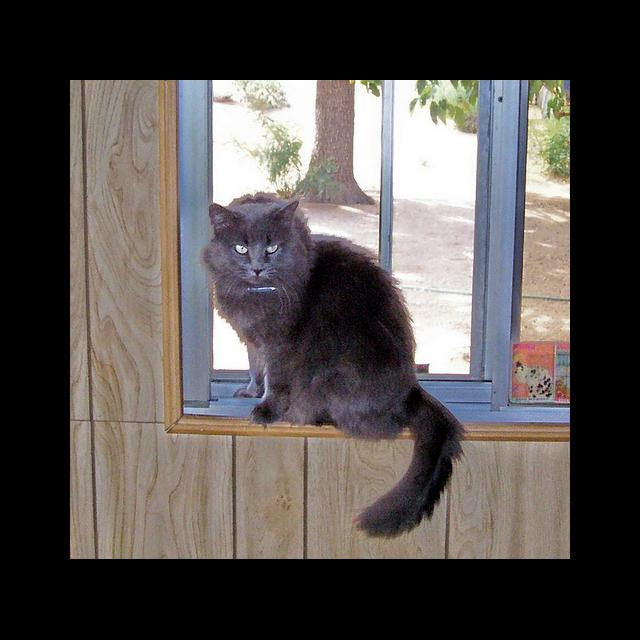animals: (211, 200, 297, 276)
